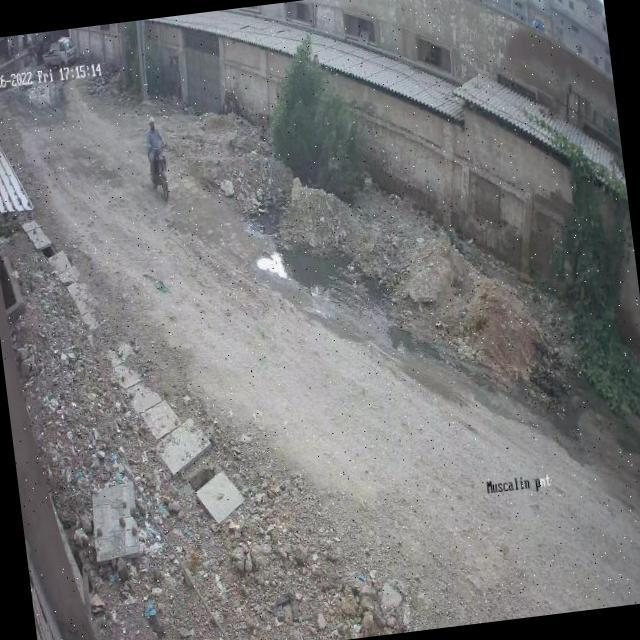person: (140, 113, 174, 170)
